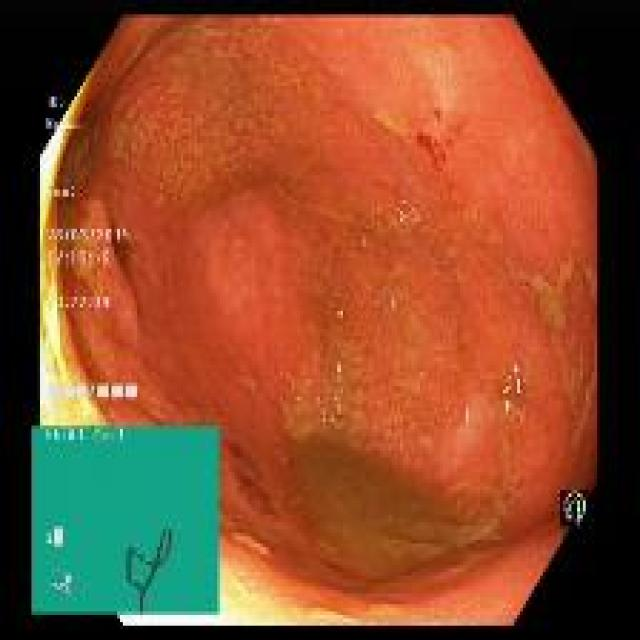ulcerative-colitis: (48, 19, 595, 619)
